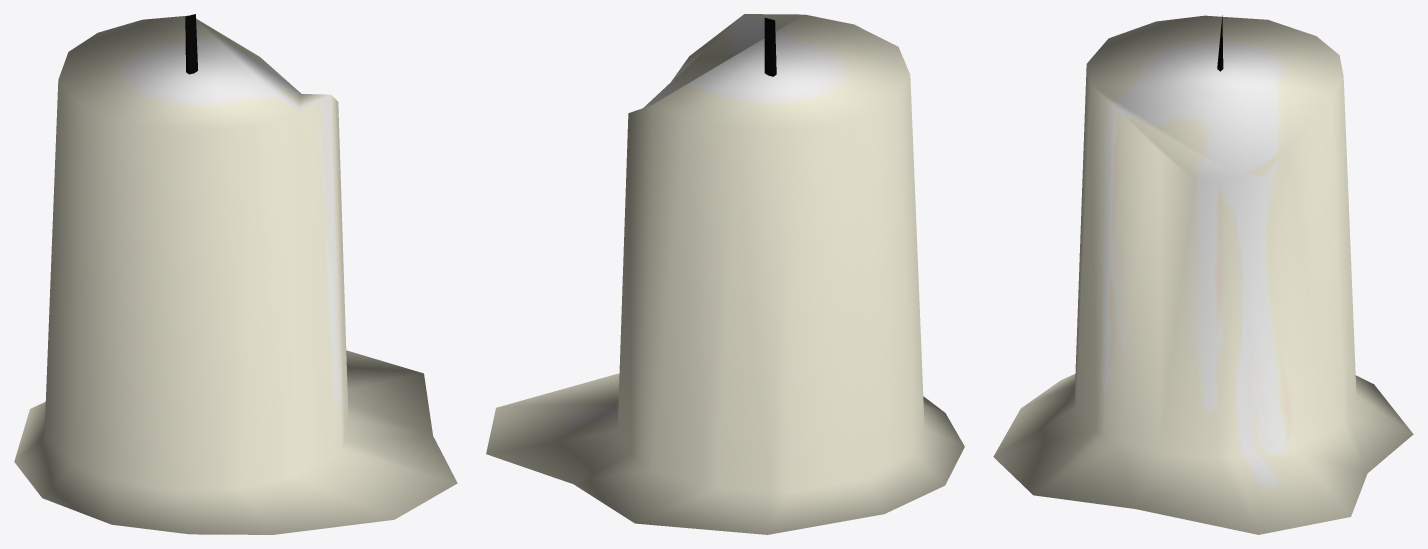
Rendered from candle.dae.
3 renders of one model, left to right at view 1: azimuth 30°, elevation 25°; view 2: azimuth 150°, elevation 25°; view 3: azimuth 270°, elevation 25°, orthographic. The views are drawn at different scales.
Visible parts, largest first — view 1: Cylinder; view 2: Cylinder; view 3: Cylinder.
Part boxes in pixels (<box>): Cylinder: <box>14,14,457,534</box>; Cylinder: <box>486,14,964,534</box>; Cylinder: <box>993,15,1413,534</box>.
Bounding box in the file's own units: 3.45 × 3.26 × 3.46.
1 material, 1 textured.
